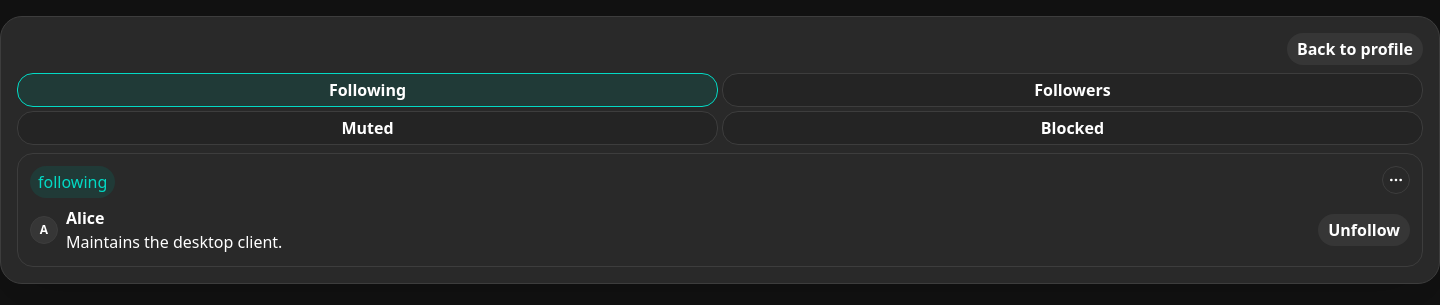
Test case: keeps only the selected relationship action visible and opens other actions from the row menu
Check: the button "Unfollow" is shown, box [1318,214,1410,246]
Click the button named "Actions for Alice": point(1396, 180) [1382,166,1410,194]
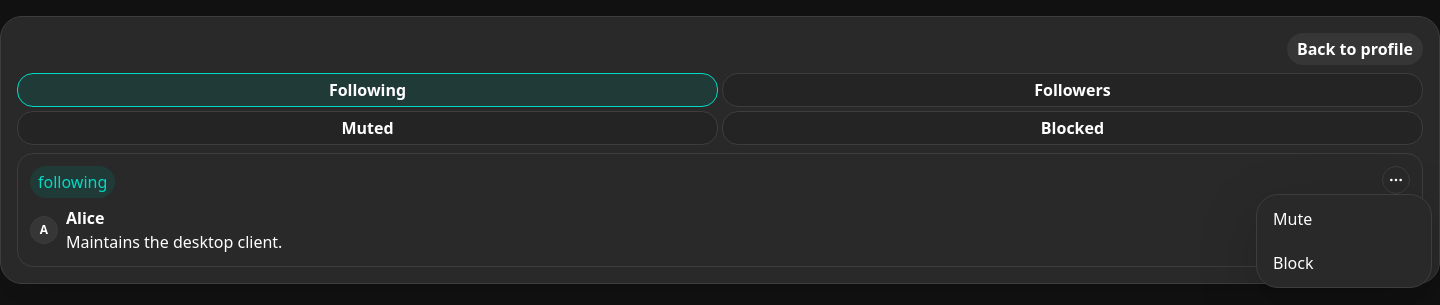
Click the menu item "Mute": point(1344, 219) [1261,199,1427,239]
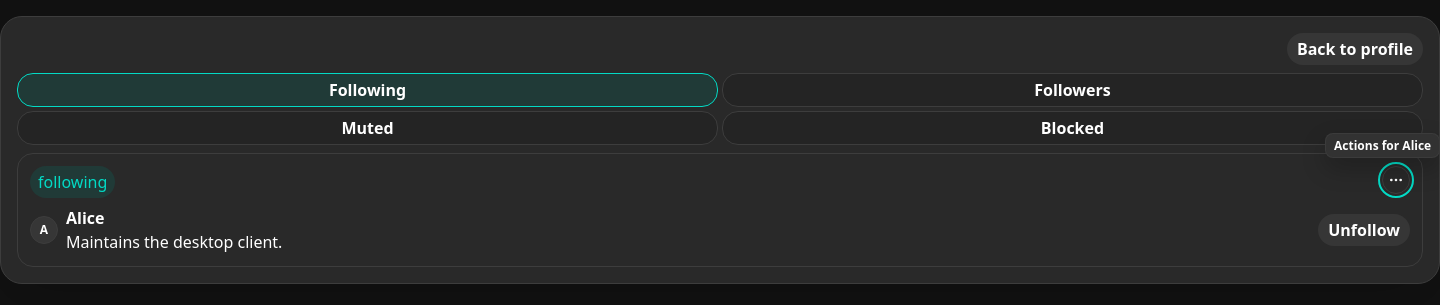
Click the button named "Actions for Alice": point(1396, 180) [1382,166,1410,194]
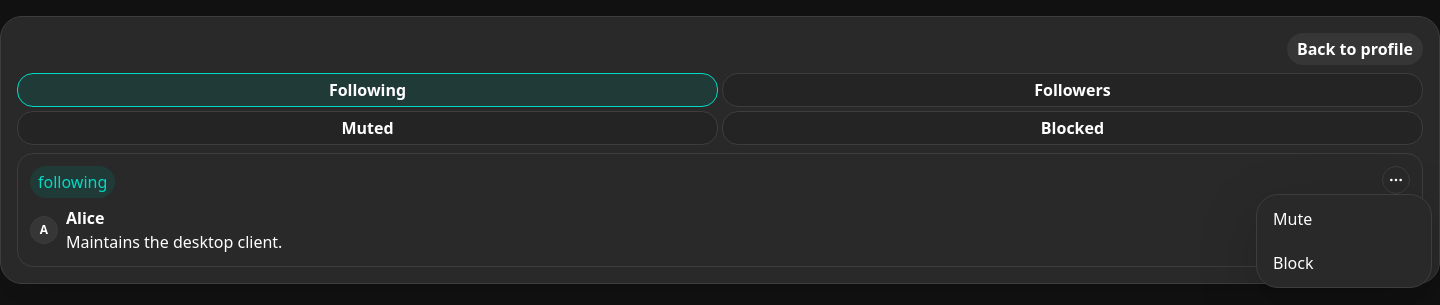
Press Escape
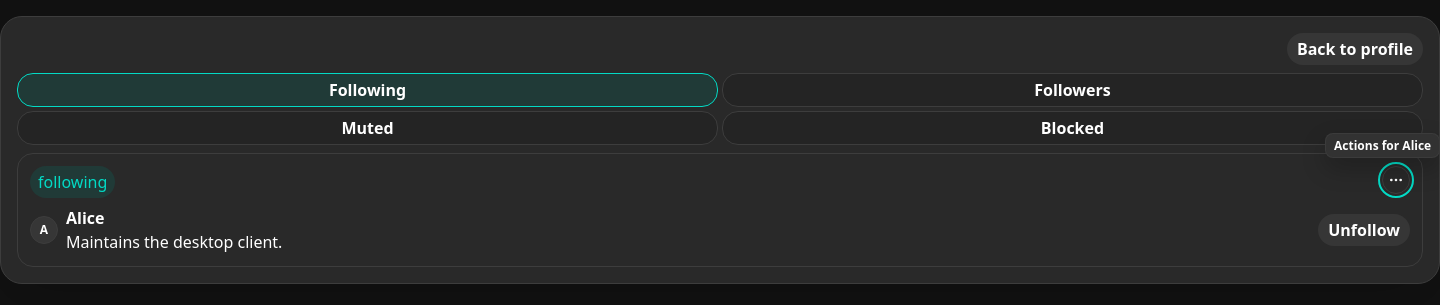
Check: the menu is gone
